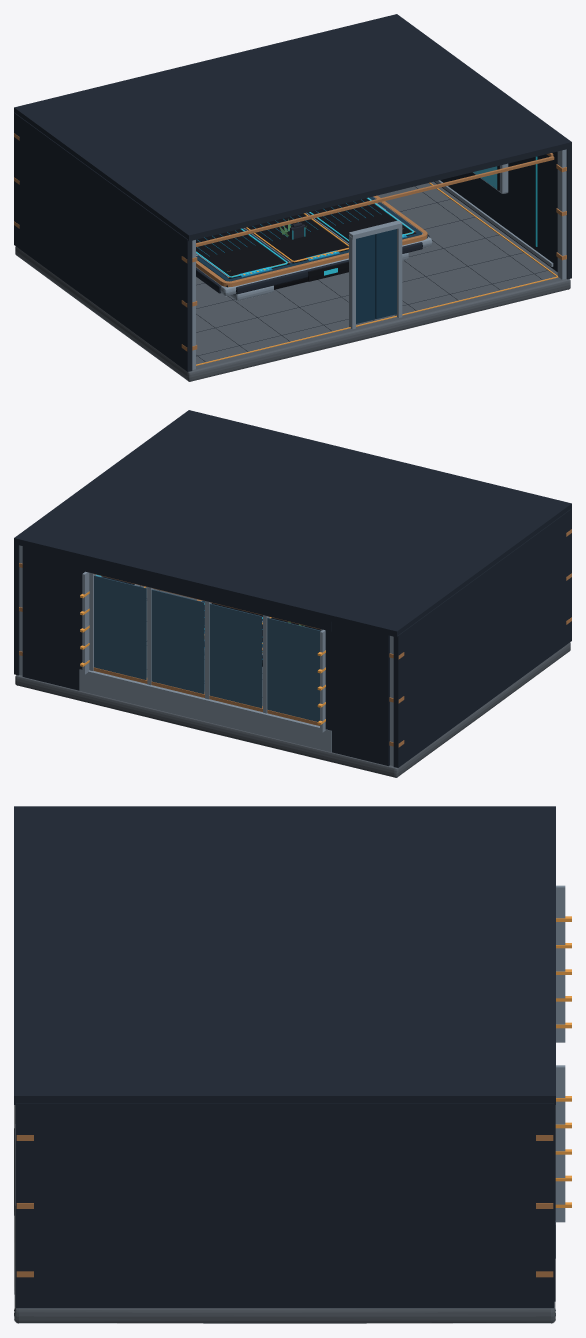
File: ProjectSpark_ProGameRoom_COMPLETE_Showcase.fbx
3 views of the same model, one above another, from view 1: azimuth 30°, elevation 25°; view 2: azimuth 150°, elevation 25°; view 3: azimuth 270°, elevation 25° (orthographic). The views are drawn at different scales.
Visible parts, largest first — view 1: PS_Studio_CeilingStructure, PS_Studio_SideWalls, PS_Studio_FloorSlab, PS_Table_ThreePreviewBays, PS_Studio_AccessDoorAssembly_Piece_0001, PS_Studio_TrimAndConduit, PS_Studio_CornerStructuralSupports, PS_Studio_AccessDoorAssembly, PS_Table_OuterBezelAndBumper, PS_Studio_FloorSeams, PS_Table_SideArmorPanels, PS_Studio_FloorPerimeterLighting (+3 smaller); view 2: PS_Studio_CeilingStructure, PS_Studio_RearWallPanorama, PS_Studio_SideWalls, PS_Studio_PanoramicGlass, PS_Studio_FloorSlab, PS_Studio_PanoramicWindowMullions, PS_Studio_WindowExternalLightBaffles, PS_Studio_CornerStructuralSupports; view 3: PS_Studio_CeilingStructure, PS_Studio_SideWalls, PS_Studio_FloorSlab, PS_Studio_WindowExternalLightBaffles, PS_Studio_CornerStructuralSupports.
Boxes of the visible parts, box(x1,y1,x2,y2) form: PS_Studio_CeilingStructure: box(14, 14, 571, 241); PS_Studio_SideWalls: box(14, 112, 571, 371); PS_Studio_FloorSlab: box(15, 181, 570, 381); PS_Table_ThreePreviewBays: box(196, 198, 416, 278); PS_Studio_AccessDoorAssembly_Piece_0001: box(356, 229, 396, 323); PS_Studio_TrimAndConduit: box(196, 153, 554, 266); PS_Studio_CornerStructuralSupports: box(14, 133, 566, 369); PS_Studio_AccessDoorAssembly: box(349, 220, 402, 329); PS_Table_OuterBezelAndBumper: box(196, 195, 427, 287); PS_Studio_FloorSeams: box(196, 186, 547, 361); PS_Table_SideArmorPanels: box(196, 234, 429, 294); PS_Studio_FloorPerimeterLighting: box(196, 182, 558, 365); PS_Studio_CeilingStructure: box(14, 410, 571, 637); PS_Studio_RearWallPanorama: box(22, 546, 389, 766); PS_Studio_SideWalls: box(14, 508, 571, 767); PS_Studio_PanoramicGlass: box(94, 575, 320, 721); PS_Studio_FloorSlab: box(15, 585, 570, 777); PS_Studio_PanoramicWindowMullions: box(89, 572, 322, 725); PS_Studio_WindowExternalLightBaffles: box(80, 571, 325, 732); PS_Studio_CornerStructuralSupports: box(19, 529, 571, 765); PS_Studio_CeilingStructure: box(14, 806, 555, 1104); PS_Studio_SideWalls: box(16, 1103, 553, 1308); PS_Studio_FloorSlab: box(14, 1105, 555, 1323); PS_Studio_WindowExternalLightBaffles: box(555, 885, 571, 1222); PS_Studio_CornerStructuralSupports: box(16, 1135, 553, 1277).
Size of the model in its own units: 1828 by 672 by 1482.
